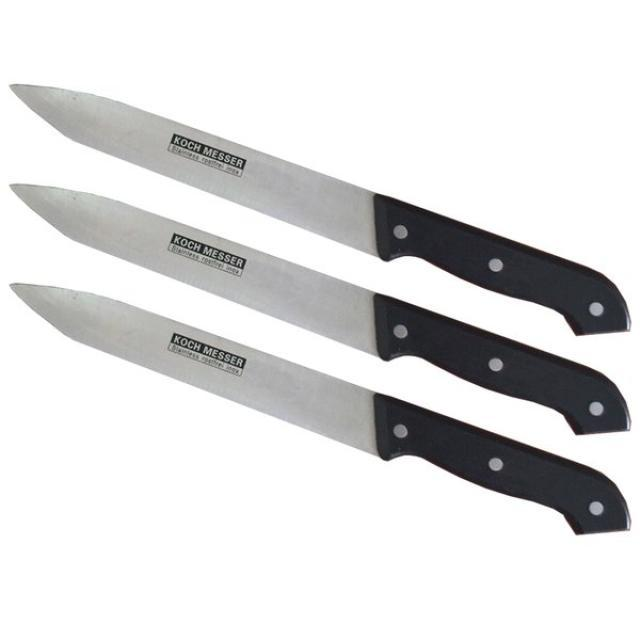Pisau: (14, 68, 634, 346)
